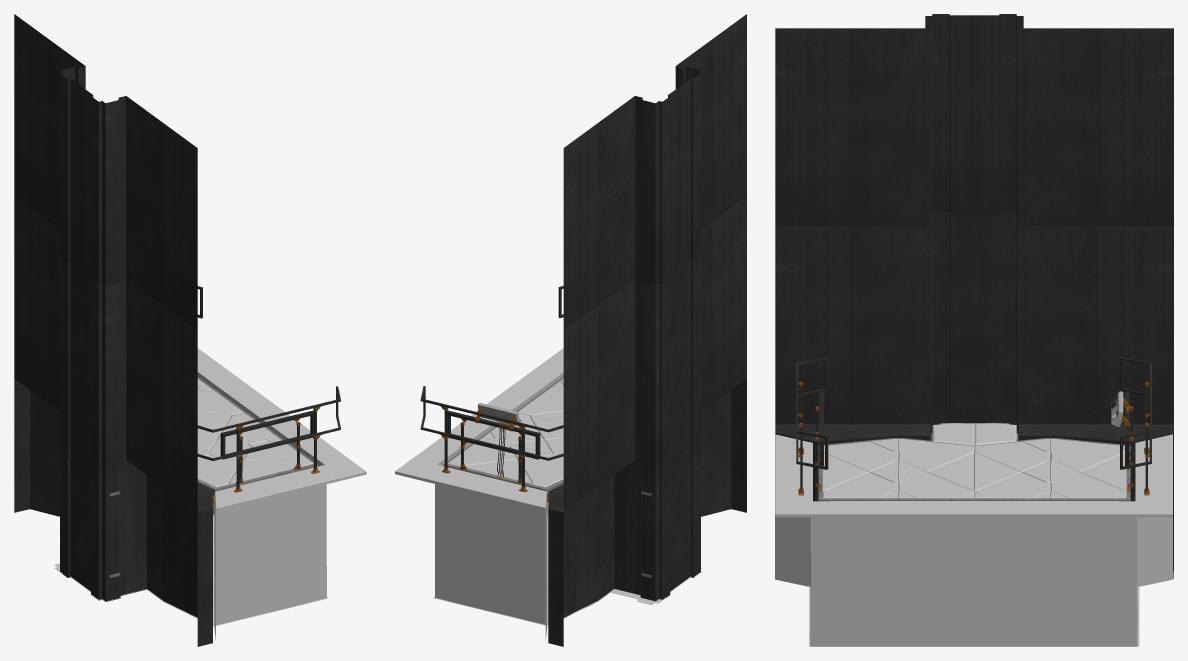
File: ElevatorWide_side_terminal.fbx
The picture shows the model from 3 angles, left to right: view 1: azimuth 30°, elevation 25°; view 2: azimuth 150°, elevation 25°; view 3: azimuth 270°, elevation 25°; orthographic projection. The views are drawn at different scales.
Parts seen in each view (by area): view 1: Wall, Wall array, Floor, Elevator, Floor bottom; view 2: Wall, Wall array, Floor, Elevator, Floor bottom; view 3: Wall, Wall array, Floor, Elevator, Floor bottom.
Part boxes in pixels (<box>): Wall: <box>14,196,212,646</box>; Wall array: <box>14,14,197,329</box>; Floor: <box>197,286,366,639</box>; Elevator: <box>109,377,317,577</box>; Floor bottom: <box>54,515,328,625</box>; Wall: <box>548,196,746,646</box>; Wall array: <box>563,14,746,329</box>; Floor: <box>395,286,563,639</box>; Elevator: <box>443,377,651,577</box>; Floor bottom: <box>433,515,702,625</box>; Wall: <box>775,212,1173,578</box>; Wall array: <box>775,14,1173,226</box>; Floor: <box>775,357,1172,646</box>; Elevator: <box>815,391,1133,501</box>; Floor bottom: <box>809,586,1139,646</box>.
Bounding box in the file's own units: 346 × 839 × 559.
